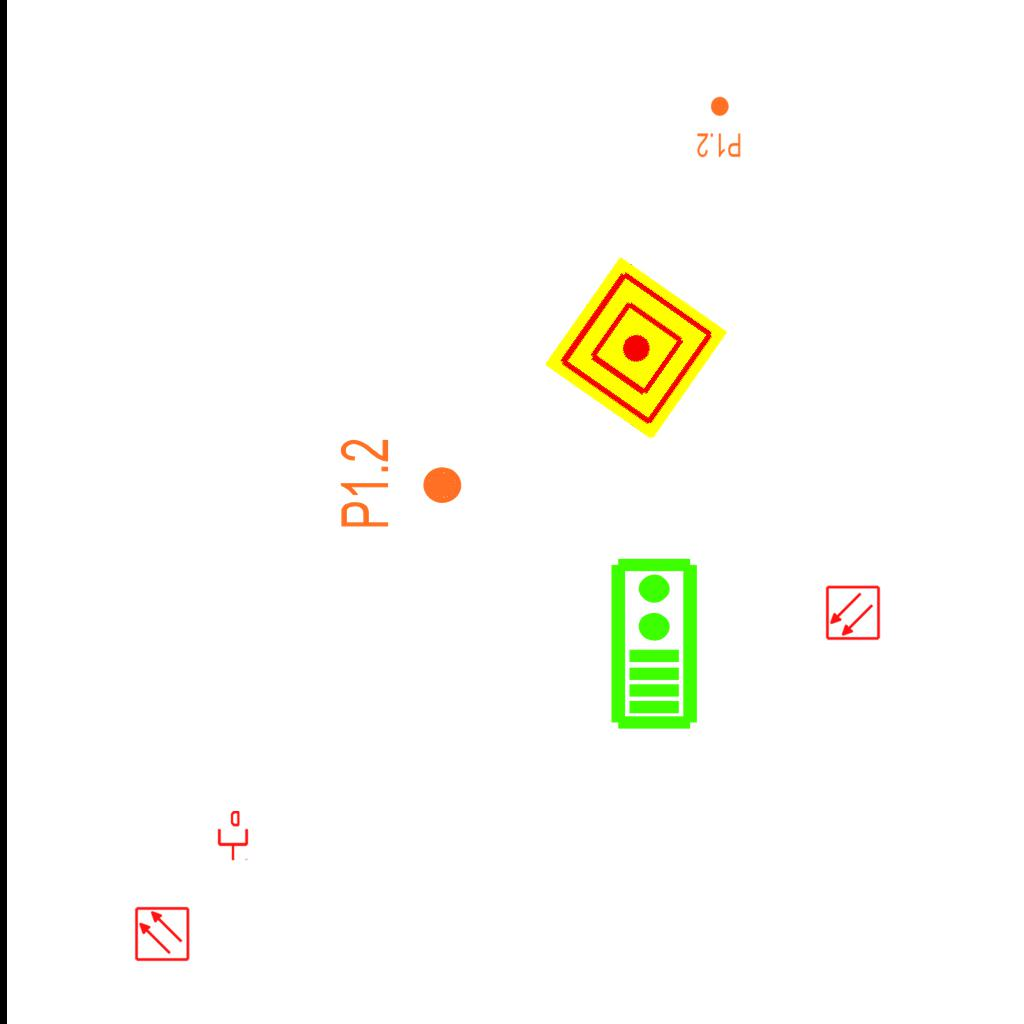Datenanschluss_einfach: (216, 811, 250, 861)
Downlight_LED_Einbauleuchten_Flur: (337, 437, 465, 530), (696, 95, 742, 159)
Gegensprechanlage_mit_Video: (605, 555, 700, 731)
NAM-Nichtautomatischer_Melder: (544, 256, 728, 440)
RMO_Rauchmelder_optischer: (824, 584, 882, 642), (134, 906, 190, 962)
